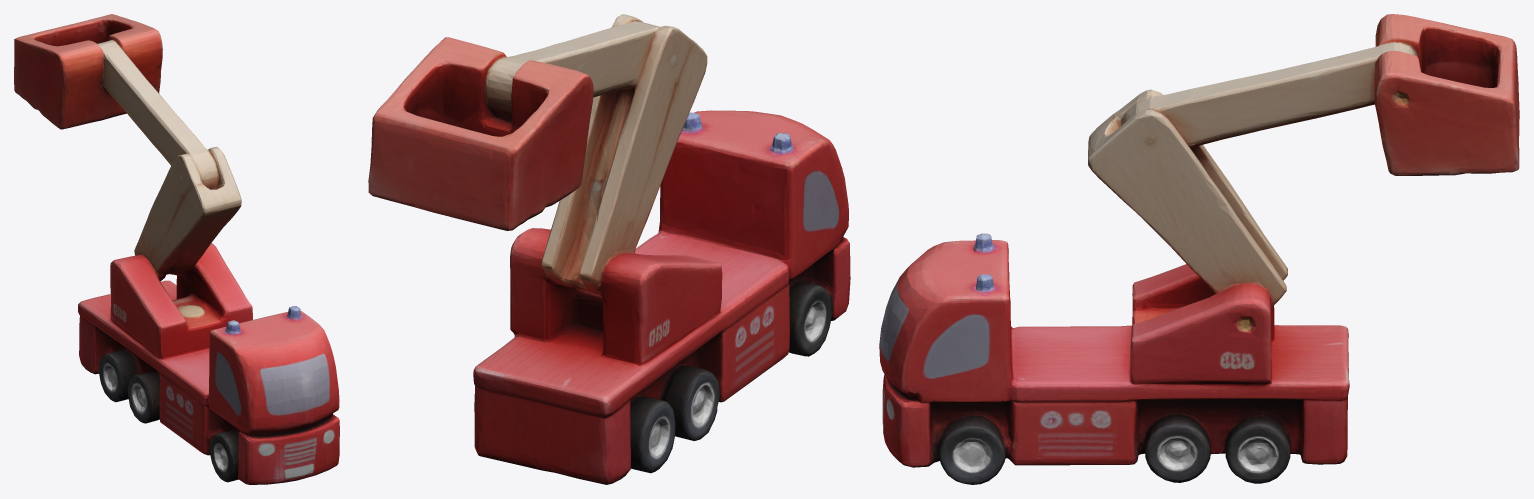
Rendered from FIRE_ENGINE.glb.
The picture shows the model from 3 angles, left to right: view 1: azimuth 30°, elevation 25°; view 2: azimuth 150°, elevation 25°; view 3: azimuth 270°, elevation 25°; orthographic projection. The views are drawn at different scales.
Visible parts, largest first — view 1: world; view 2: world; view 3: world.
Boxes of the visible parts, x1,y1,x2,y2 form: world: (14,14,339,484); world: (368,14,850,484); world: (879,14,1519,484).
Bounding box in the file's own units: 0.2439 × 0.7062 × 0.999.
Materials: 1 (1 with a texture image).
